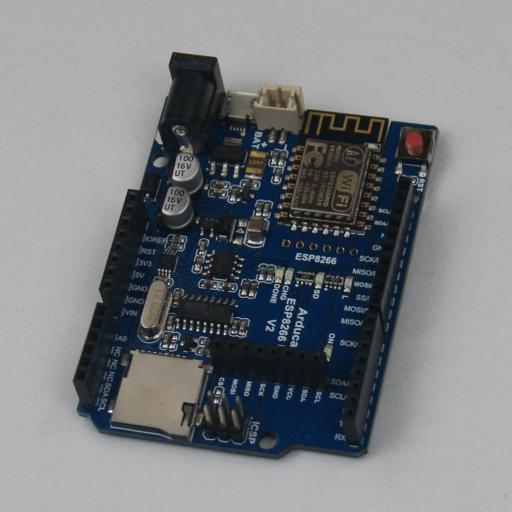Arduino Uno Camera Shield: (73, 52, 439, 459)
